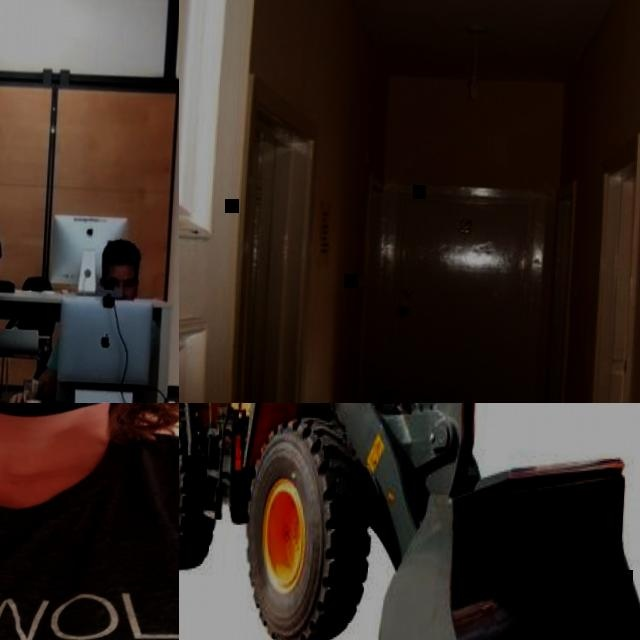NO-Hardhat: (100, 237, 142, 276)
NO-Safety Vest: (0, 417, 179, 640)
Person: (0, 403, 179, 640), (6, 232, 143, 403)
machinery: (179, 403, 640, 640)
